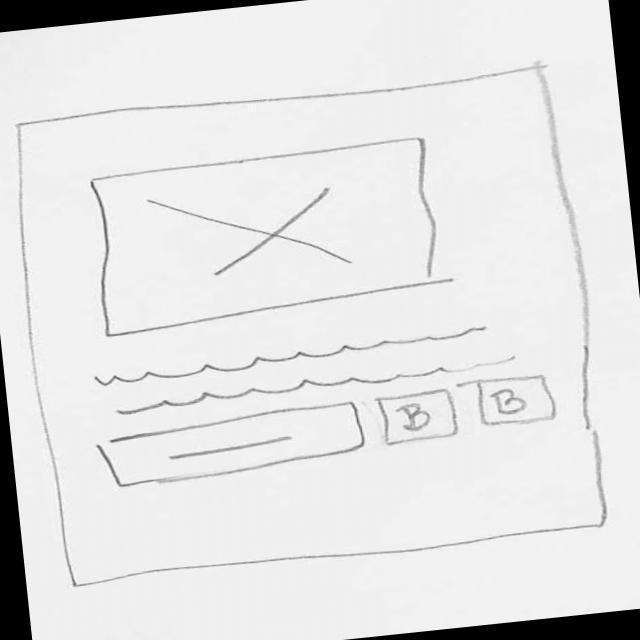button: (91, 397, 376, 496)
container: (1, 56, 630, 593)
icon-button: (467, 370, 566, 433), (375, 385, 467, 452)
image: (83, 135, 457, 343)
textbox: (92, 315, 517, 418)
